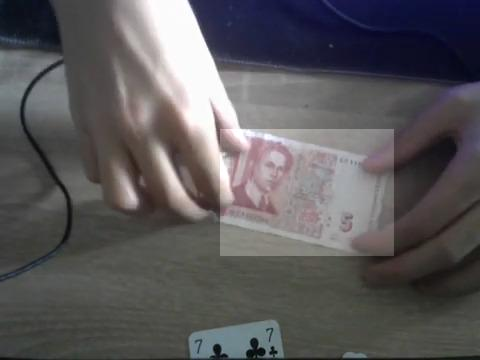5leva: (220, 129, 394, 256)
